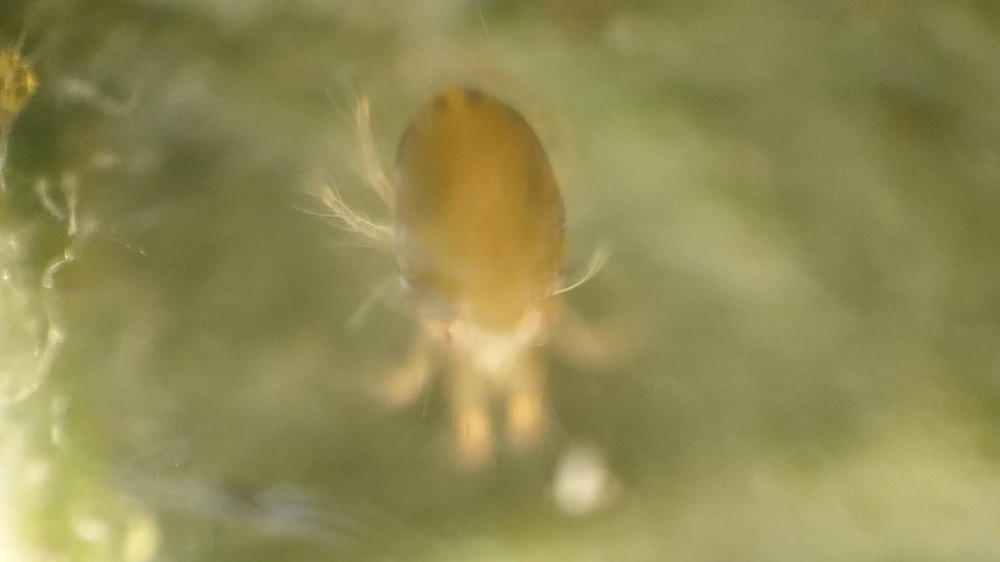Aracnido Rojo: (301, 43, 670, 511)
